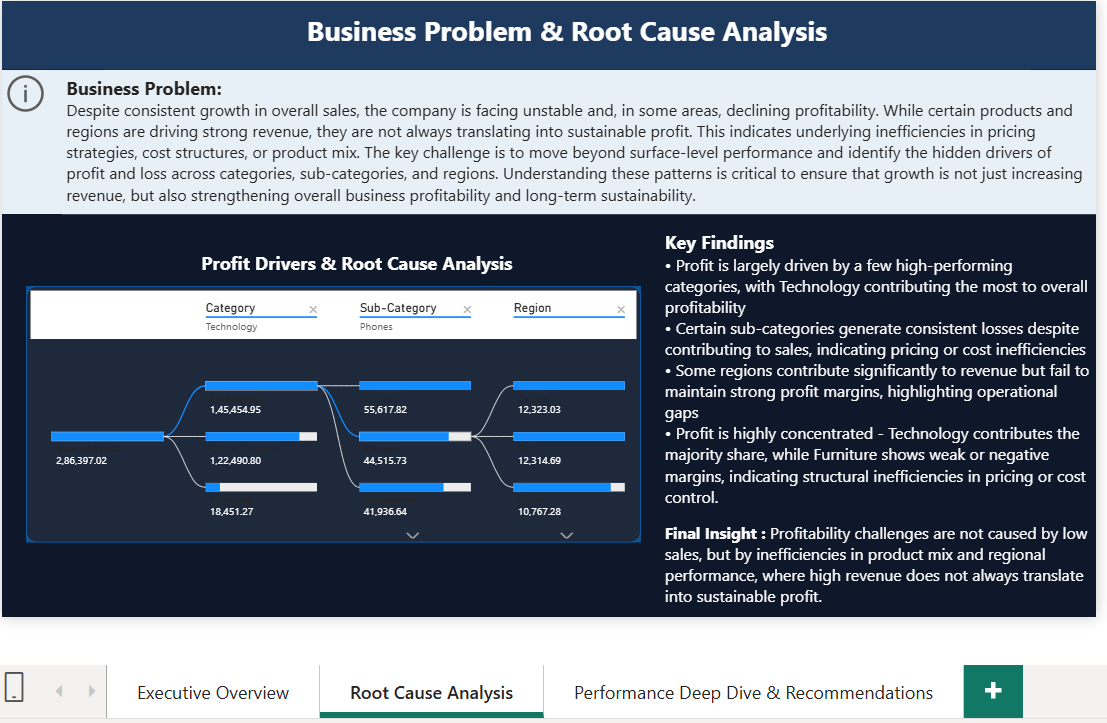

The page's visual inventory and layout, read from the dashboard file:
{"tool":"powerbi","page":{"name":"Root Cause Analysis","canvas":[1280,720],"ordinal":1},"visuals":[{"type":"shape","box":[28.1,333.3,719.3,300],"z":2000},{"type":"shape","box":[0,0,1280,80],"z":8000},{"type":"textbox","box":[120,6.7,1083.3,73.3],"z":9000},{"type":"shape","box":[0,80.7,1280.7,168.4],"z":10000},{"type":"textbox","box":[70.2,80.7,1210.5,168.4],"z":11000},{"type":"actionButton","box":[0,80,56.7,55],"z":12000},{"type":"textbox","box":[217.5,286,394.7,47.4],"z":20000},{"type":"decompositionTreeVisual","fields":{"Analyze":["Sum(Sample - Superstore.Profit)"],"ExplainBy":["Sample - Superstore.Category","Sample - Superstore.Sub-Category","Sample - Superstore.Region"]},"box":[28.1,333.3,719.3,300],"z":20001},{"type":"textbox","box":[770.2,261.4,510.5,342.1],"z":20002},{"type":"textbox","box":[770.2,603.5,510.5,115.8],"z":20003}]}

Visuals, with their boxes on the page's 1280x720 design canvas (x1, y1, x2, y2). These are canvas units, not pixel positions in the 1107x723 screenshot, which may show the page scaled, cropped or inside an application window:
shape: pyautogui.locateOnScreen(28, 333, 747, 633)
shape: pyautogui.locateOnScreen(0, 0, 1280, 80)
textbox: pyautogui.locateOnScreen(120, 7, 1203, 80)
shape: pyautogui.locateOnScreen(0, 81, 1281, 249)
textbox: pyautogui.locateOnScreen(70, 81, 1281, 249)
actionButton: pyautogui.locateOnScreen(0, 80, 57, 135)
textbox: pyautogui.locateOnScreen(218, 286, 612, 333)
decompositionTreeVisual - Sum(Sample - Superstore.Profit) x Sample - Superstore.Category: pyautogui.locateOnScreen(28, 333, 747, 633)
textbox: pyautogui.locateOnScreen(770, 261, 1281, 604)
textbox: pyautogui.locateOnScreen(770, 604, 1281, 719)
